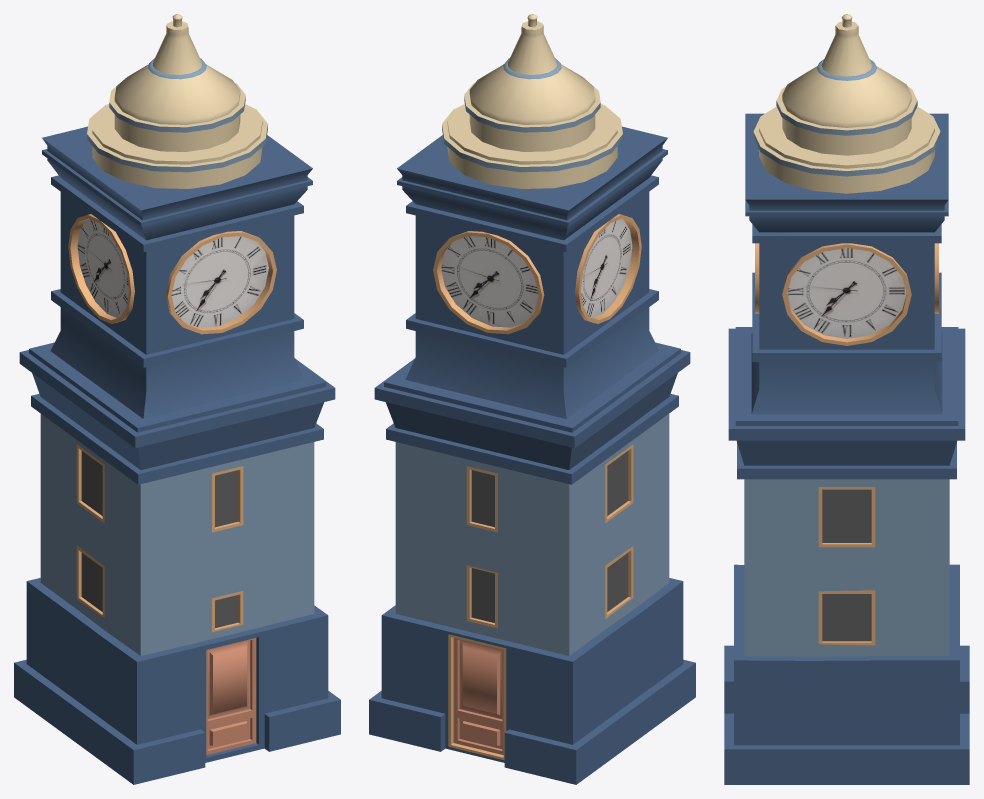
File: infrastructure-building-clock-tower.fbx
The picture shows the model from 3 angles, left to right: view 1: azimuth 30°, elevation 25°; view 2: azimuth 150°, elevation 25°; view 3: azimuth 270°, elevation 25°; orthographic projection. The views are drawn at different scales.
Visible parts, largest first — view 1: infrastructure-building-clock-tower; view 2: infrastructure-building-clock-tower; view 3: infrastructure-building-clock-tower.
Boxes of the visible parts, box(x1,y1,x2,y2) form: infrastructure-building-clock-tower: box(14, 14, 340, 784); infrastructure-building-clock-tower: box(369, 14, 695, 784); infrastructure-building-clock-tower: box(724, 14, 969, 784).
Size of the model in its own units: 5.06 by 16.35 by 5.06.
